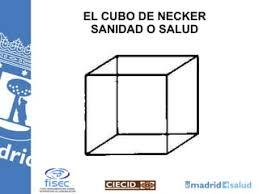cubos: (80, 52, 207, 160)
